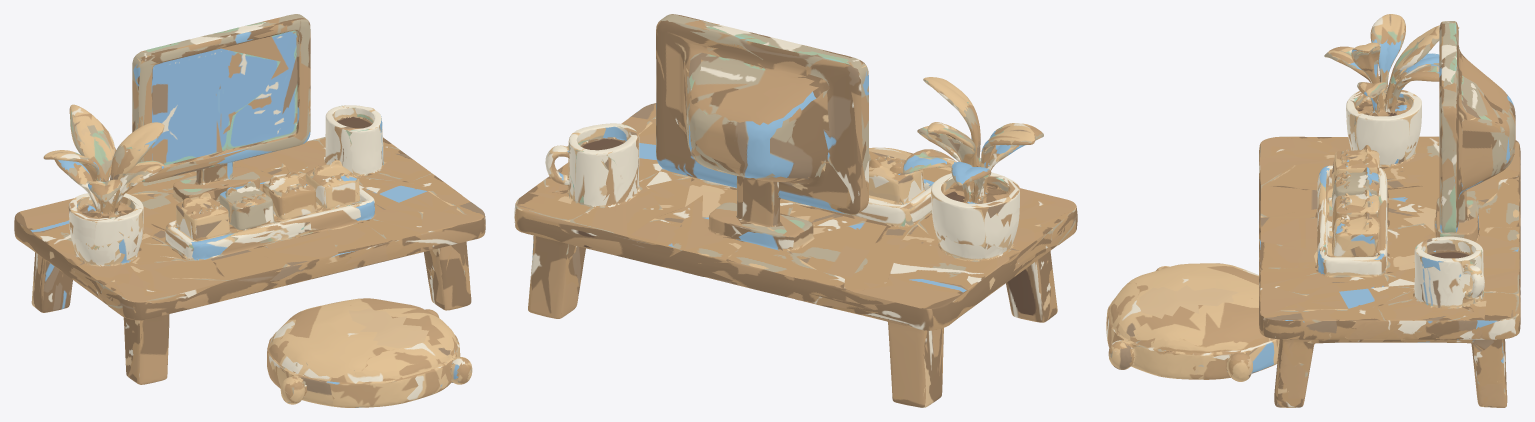
Rendered from low-monitor-cat-keycap-workstation-texture-clean-v5.glb.
3 views of the same model, side by side, from view 1: azimuth 30°, elevation 25°; view 2: azimuth 150°, elevation 25°; view 3: azimuth 270°, elevation 25° (orthographic). The views are drawn at different scales.
Visible parts, largest first — view 1: low-monitor-cat-keycap-workstation-flat-source-v4; view 2: low-monitor-cat-keycap-workstation-flat-source-v4; view 3: low-monitor-cat-keycap-workstation-flat-source-v4.
Part boxes in pixels (left/top/right/bottom): low-monitor-cat-keycap-workstation-flat-source-v4: left=14, top=14, right=485, bottom=407; low-monitor-cat-keycap-workstation-flat-source-v4: left=514, top=14, right=1077, bottom=407; low-monitor-cat-keycap-workstation-flat-source-v4: left=1106, top=14, right=1520, bottom=407.
Bounding box in the file's own units: 1.9 × 1.21 × 1.7.
1 material, 1 textured.
